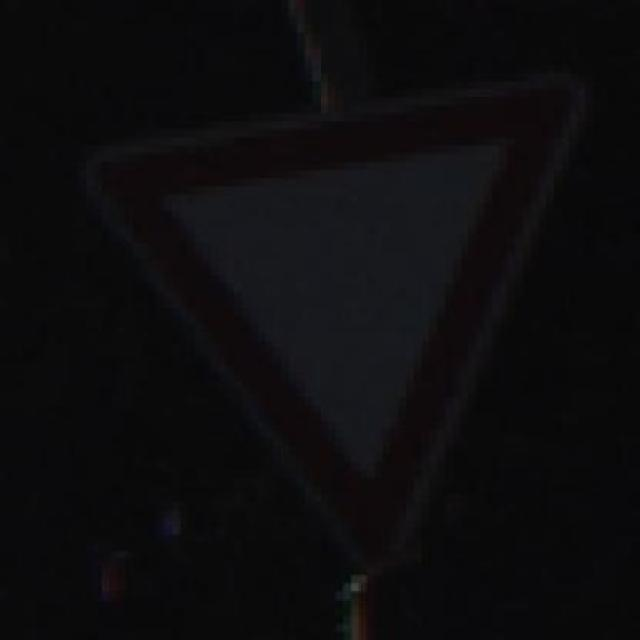Give Way: (62, 73, 633, 584)
